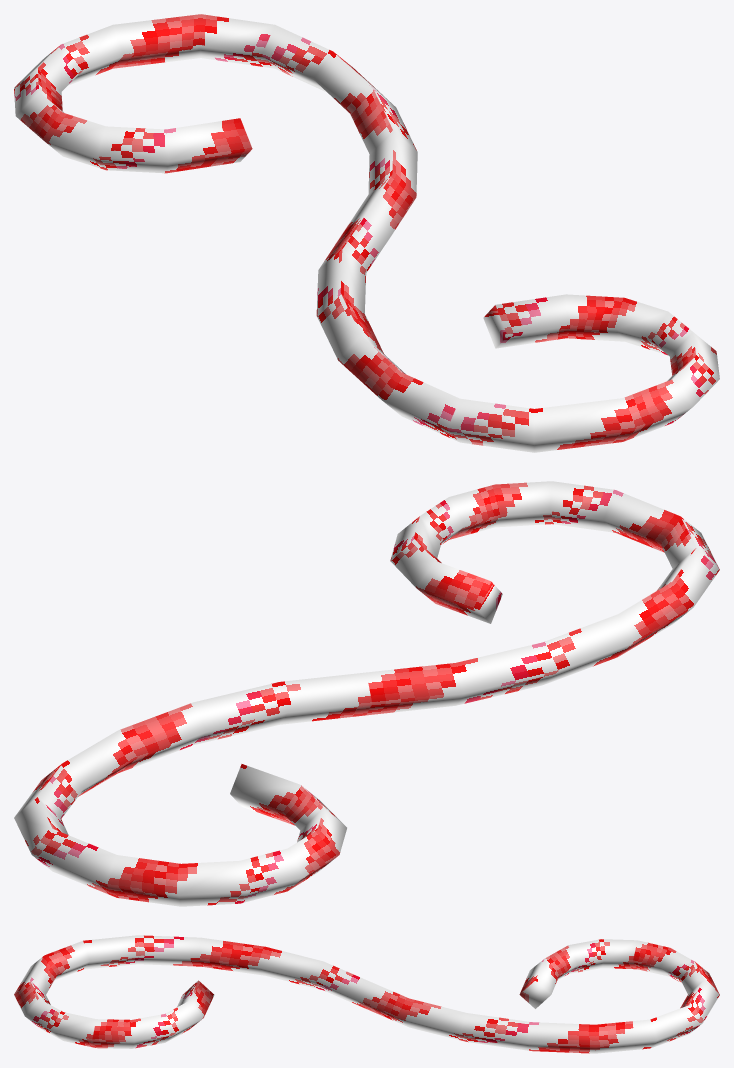
Rendered from SM_CandyCaneSurfBoard.fbx.
The picture shows the model from 3 angles, top to bottom: view 1: azimuth 30°, elevation 25°; view 2: azimuth 150°, elevation 25°; view 3: azimuth 270°, elevation 25°; orthographic projection. The views are drawn at different scales.
Parts seen in each view (by area): view 1: CandyCaneBoard; view 2: CandyCaneBoard; view 3: CandyCaneBoard.
Part boxes in pixels (x1,y1,x2,y2): CandyCaneBoard: (14, 14, 719, 452); CandyCaneBoard: (14, 481, 719, 906); CandyCaneBoard: (14, 935, 719, 1053).
Bounding box in the file's own units: 289 × 38 × 838.
